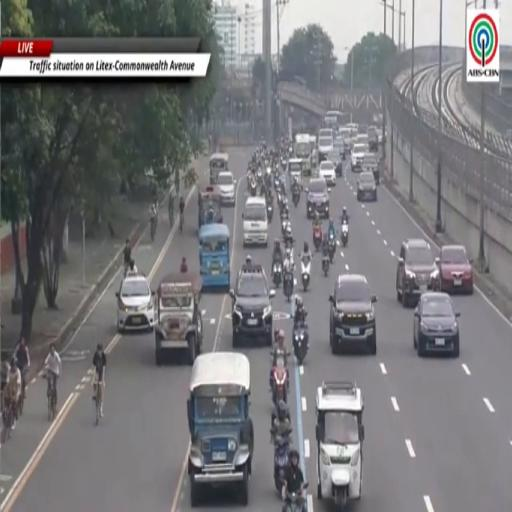car: (330, 274, 377, 355), (230, 264, 275, 347), (414, 292, 459, 357), (396, 238, 438, 307), (116, 275, 154, 332), (436, 245, 473, 294), (243, 197, 267, 247), (306, 178, 329, 218), (217, 171, 236, 205), (357, 171, 377, 201), (362, 153, 379, 184), (327, 147, 344, 177), (319, 156, 336, 186), (351, 143, 366, 171), (318, 136, 333, 162), (367, 125, 378, 152), (334, 135, 345, 159), (355, 133, 369, 150), (319, 128, 334, 138), (377, 128, 383, 145)
jeepney: (188, 352, 253, 506), (316, 381, 364, 510), (155, 272, 202, 365), (199, 224, 230, 291), (198, 185, 223, 229), (294, 134, 311, 175), (210, 153, 229, 184), (288, 158, 305, 186), (309, 135, 317, 168)
motorcycle: (271, 430, 291, 491), (272, 356, 288, 406), (284, 483, 308, 511), (293, 322, 308, 364), (301, 258, 311, 291), (283, 270, 293, 301), (328, 232, 336, 264), (285, 239, 294, 266), (313, 227, 323, 251), (273, 262, 282, 287), (284, 221, 292, 244), (322, 254, 330, 276), (341, 222, 348, 247), (282, 219, 290, 239), (292, 188, 300, 207), (266, 203, 274, 222), (250, 181, 257, 197), (256, 168, 263, 184), (274, 174, 280, 189), (281, 156, 286, 170), (289, 146, 293, 156)
